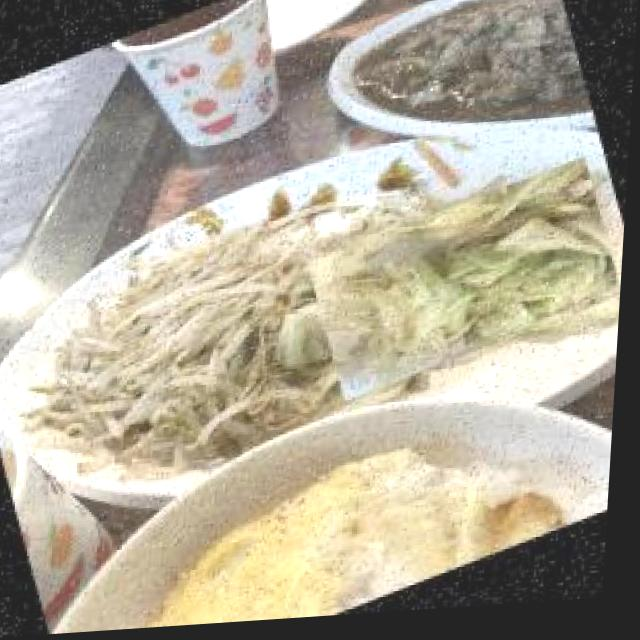chinese_cabbage: (302, 161, 631, 408)
mung_bean_sprouts: (24, 224, 327, 507)
